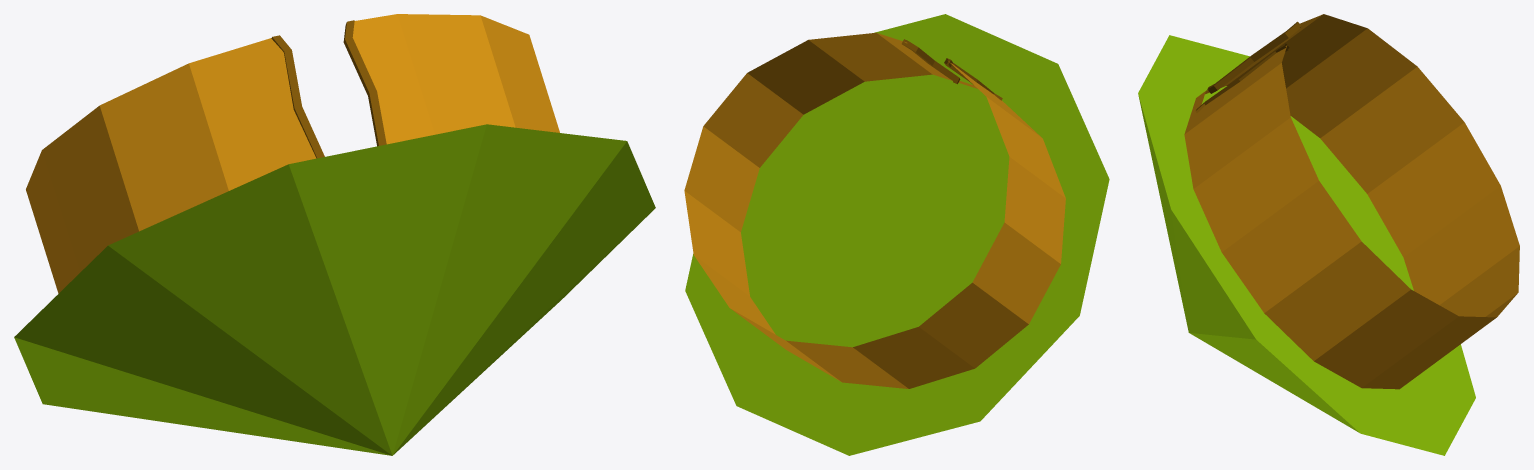
3 views of the same model, side by side, from view 1: azimuth 30°, elevation 25°; view 2: azimuth 150°, elevation 25°; view 3: azimuth 270°, elevation 25° (orthographic). The views are drawn at different scales.
Parts seen in each view (by area): view 1: Cone; view 2: Cone; view 3: Cone.
Part boxes in pixels (bbox=[...]): Cone: bbox=[14, 14, 655, 455]; Cone: bbox=[684, 14, 1109, 455]; Cone: bbox=[1138, 14, 1519, 455].
Size of the model in its own units: 39.76 by 31.67 by 29.62.
